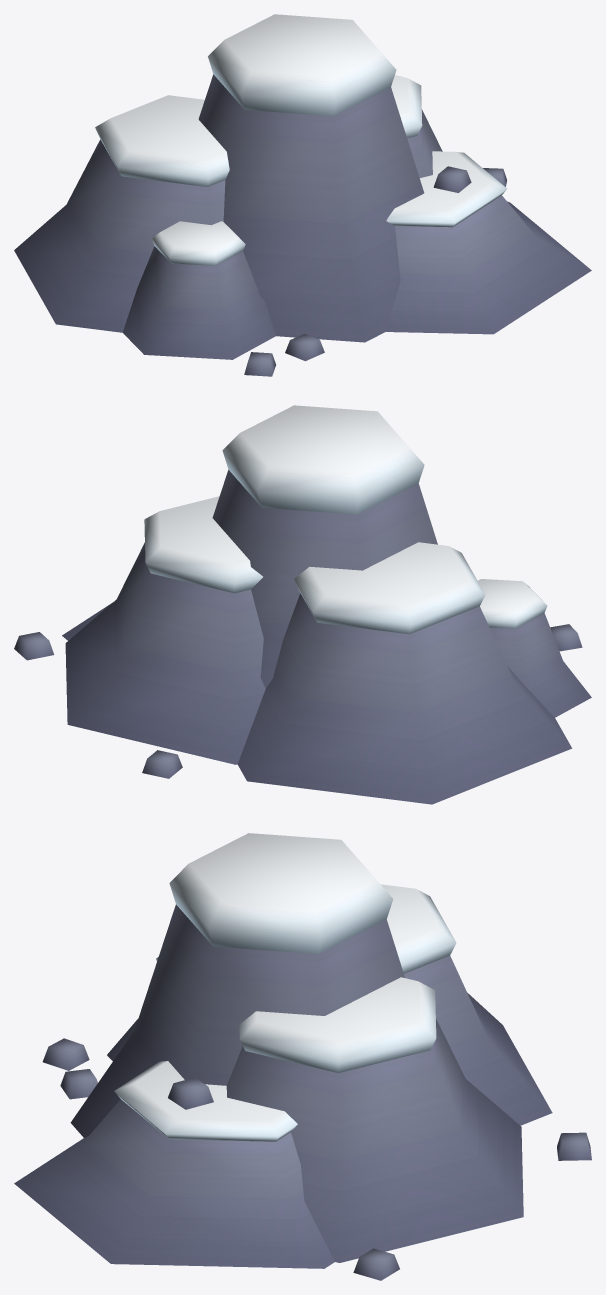
File: holiday-rocks-medium.glb
3 renders of one model, top to bottom at view 1: azimuth 30°, elevation 25°; view 2: azimuth 150°, elevation 25°; view 3: azimuth 270°, elevation 25°, orthographic. The views are drawn at different scales.
Visible parts, largest first — view 1: rocks-medium; view 2: rocks-medium; view 3: rocks-medium.
Boxes of the visible parts, x1,y1,x2,y2 form: rocks-medium: [14, 14, 591, 376]; rocks-medium: [14, 405, 591, 804]; rocks-medium: [14, 833, 591, 1280].
Bounding box in the file's own units: 1.98 × 0.8785 × 1.72.
Materials: 1 (1 with a texture image).
